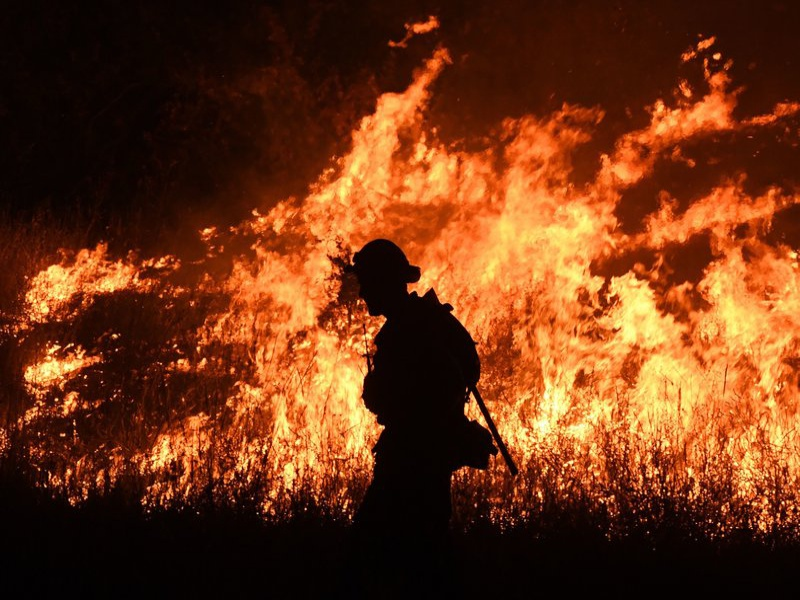fire: (17, 12, 796, 540)
